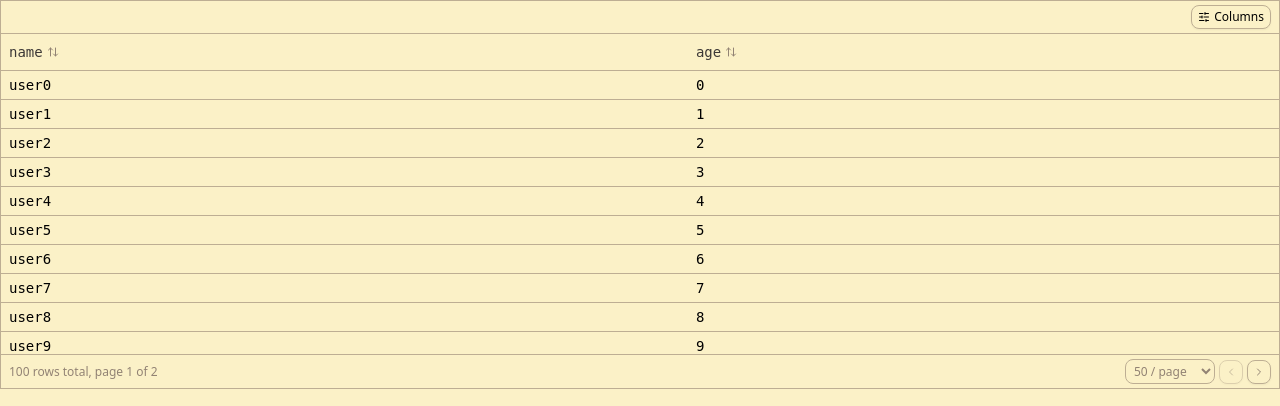
DataFrameTable › shows a stale-run notice and disables interaction when the fetch rejects
The width and height of the screenshot is (1280, 406).
Click the 3rd button at [1259, 372], box [1247,360,1271,384]
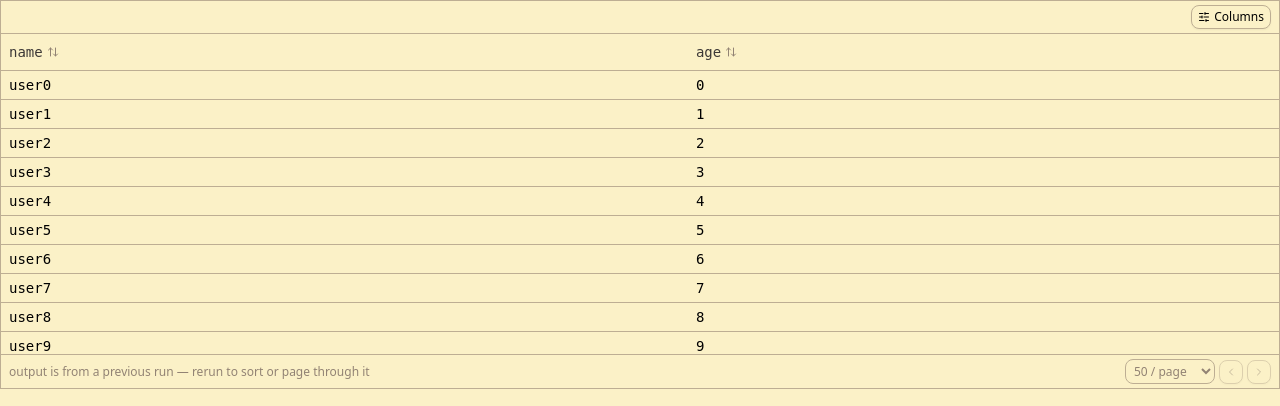
Expected: the text "user0" is shown, [1,70,688,99]
Expected: the text "rerun to sort or page through it" is shown, [9,362,370,380]
Expected: the 3rd button is disabled, [1247,360,1271,384]
